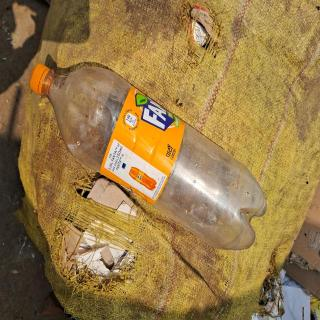Plastic-bottle: (26, 57, 274, 262)
